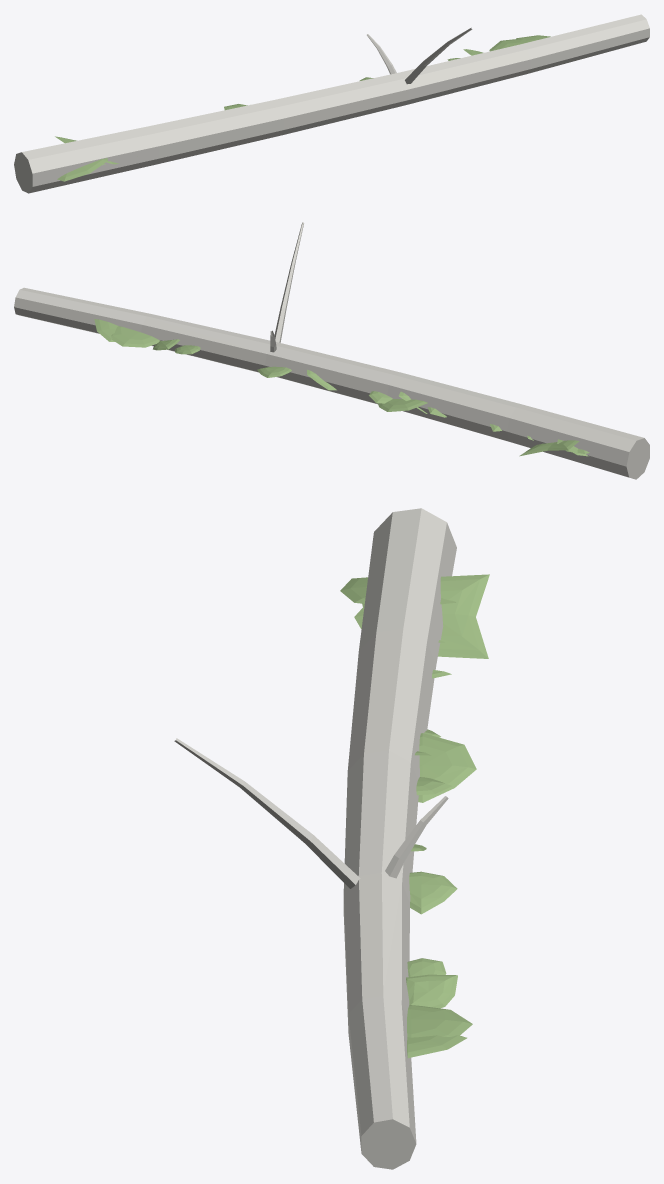
The model's file is temperate-forest-ecology-fallen-birch-log-mossy-b18dee7a__3824.glb.
The picture shows the model from 3 angles, top to bottom: view 1: azimuth 30°, elevation 25°; view 2: azimuth 150°, elevation 25°; view 3: azimuth 270°, elevation 25°; orthographic projection. The views are drawn at different scales.
Parts seen in each view (by area): view 1: fallen-birch-log-mossy; view 2: fallen-birch-log-mossy; view 3: fallen-birch-log-mossy.
Part boxes in pixels (bbox=[...]): fallen-birch-log-mossy: bbox=[14, 14, 649, 193]; fallen-birch-log-mossy: bbox=[14, 222, 649, 479]; fallen-birch-log-mossy: bbox=[174, 508, 489, 1169].
Size of the model in its own units: 5.61 by 0.9883 by 1.25.
